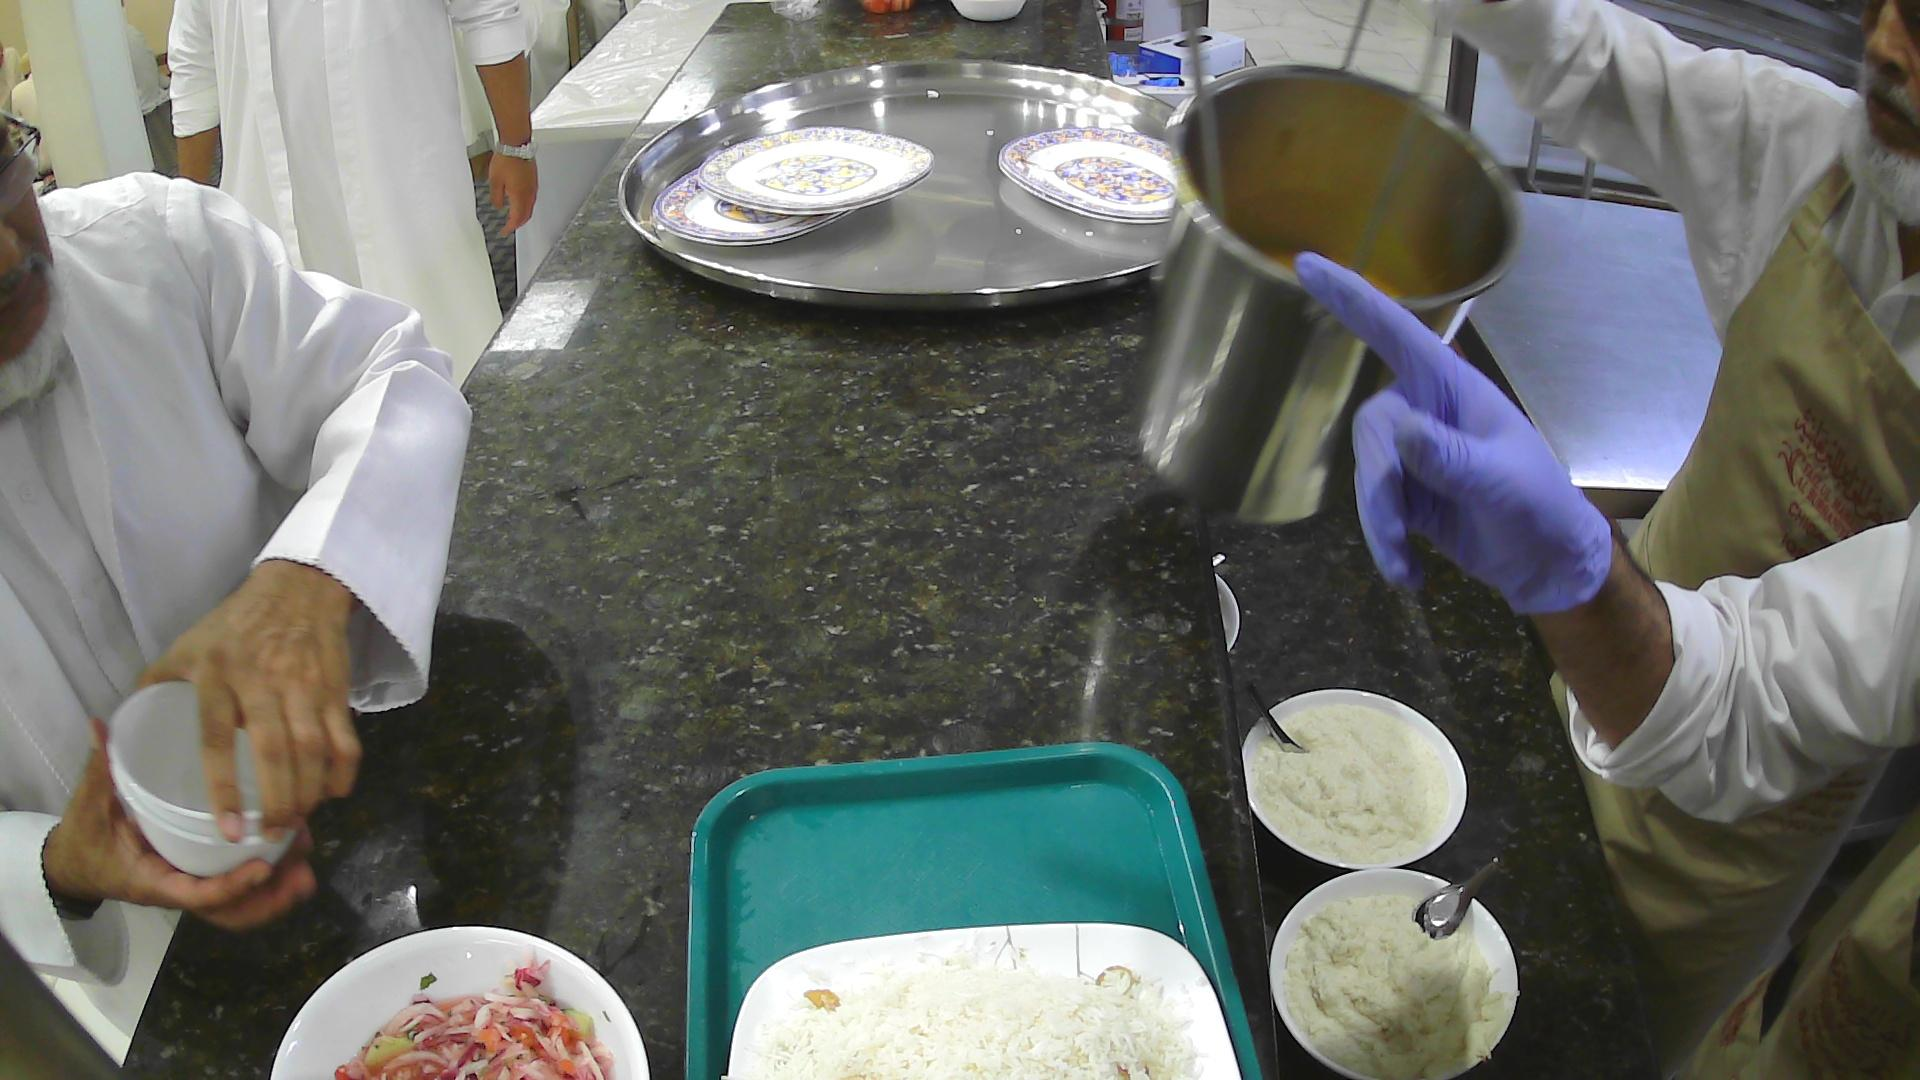thaal: (617, 58, 1180, 315)
